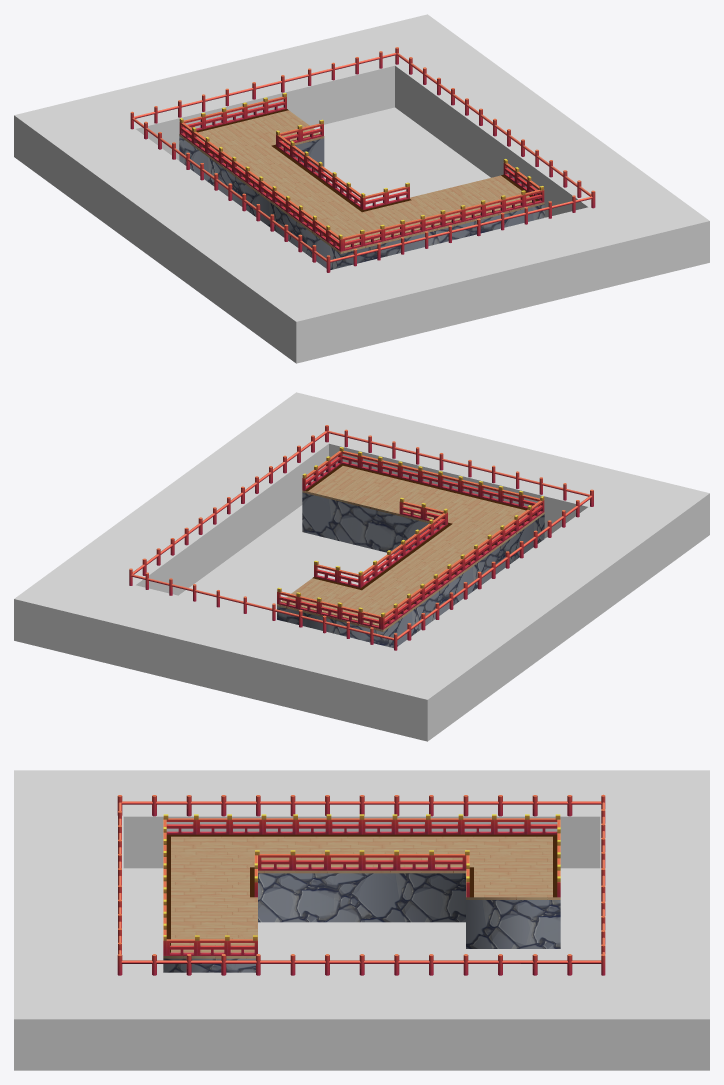
File: Duel_Stage 11.fbx
The picture shows the model from 3 angles, top to bottom: view 1: azimuth 30°, elevation 25°; view 2: azimuth 150°, elevation 25°; view 3: azimuth 270°, elevation 25°; orthographic projection. The views are drawn at different scales.
Visible parts, largest first — view 1: Platform_Cube__1_.006, Platform_Cube__1_.004, Cube.074, Cube.078, Platform_Cube__1_.005; view 2: Platform_Cube__1_.006, Platform_Cube__1_.004, Cube.074, Cube.078, Platform_Cube__1_.005; view 3: Platform_Cube__1_.006, Platform_Cube__1_.004, Cube.074, Cube.078, Platform_Cube__1_.005.
Part boxes in pixels (x1=…): Platform_Cube__1_.006: x1=14, y1=14, x2=709, y2=363; Platform_Cube__1_.004: x1=179, y1=110, x2=544, y2=269; Cube.074: x1=179, y1=92, x2=544, y2=251; Cube.078: x1=130, y1=47, x2=595, y2=272; Platform_Cube__1_.005: x1=185, y1=109, x2=538, y2=247; Platform_Cube__1_.006: x1=14, y1=392, x2=709, y2=741; Platform_Cube__1_.004: x1=277, y1=466, x2=544, y2=648; Cube.074: x1=277, y1=447, x2=544, y2=629; Cube.078: x1=129, y1=425, x2=593, y2=650; Platform_Cube__1_.005: x1=281, y1=464, x2=538, y2=625; Platform_Cube__1_.006: x1=14, y1=770, x2=709, y2=1070; Platform_Cube__1_.004: x1=163, y1=836, x2=560, y2=972; Cube.074: x1=163, y1=814, x2=560, y2=955; Cube.078: x1=117, y1=794, x2=605, y2=975; Platform_Cube__1_.005: x1=166, y1=834, x2=557, y2=952.
Bounding box in the file's own units: 9331 × 1246 × 11031.
